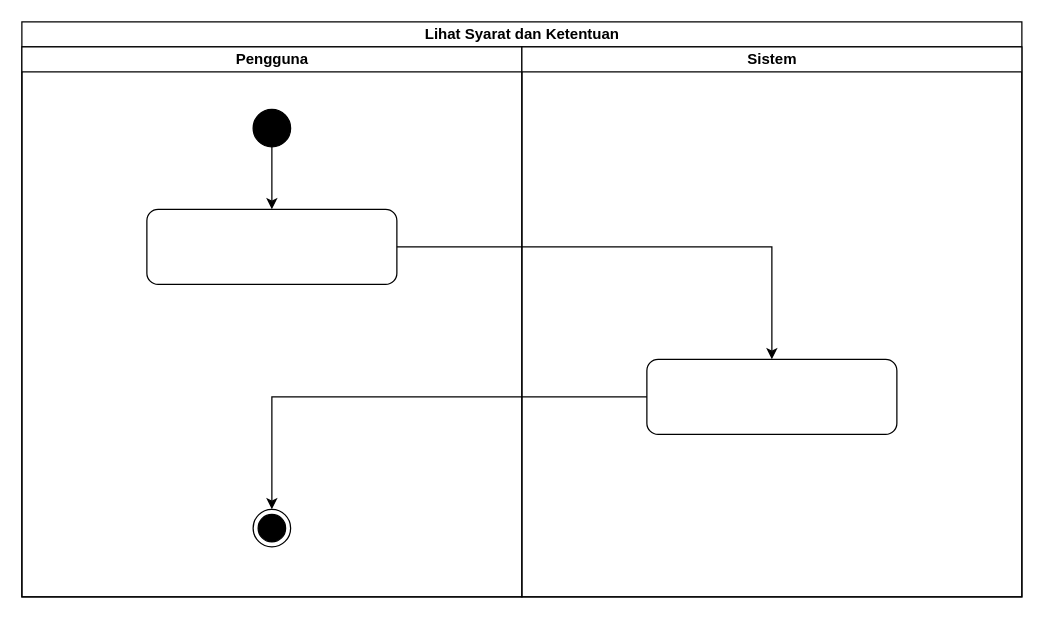
The diagram is 1044 pixels wide and 619 high, and some of its shapes have lost their labels. Here are the shapes that lost their labels. From the top down, the centre of each, then its label:
the point at 271,246: Klik link Syarat dan Ketentuan
the point at 771,396: Menampilkan dokumen syarat dan ketentuan layanan
